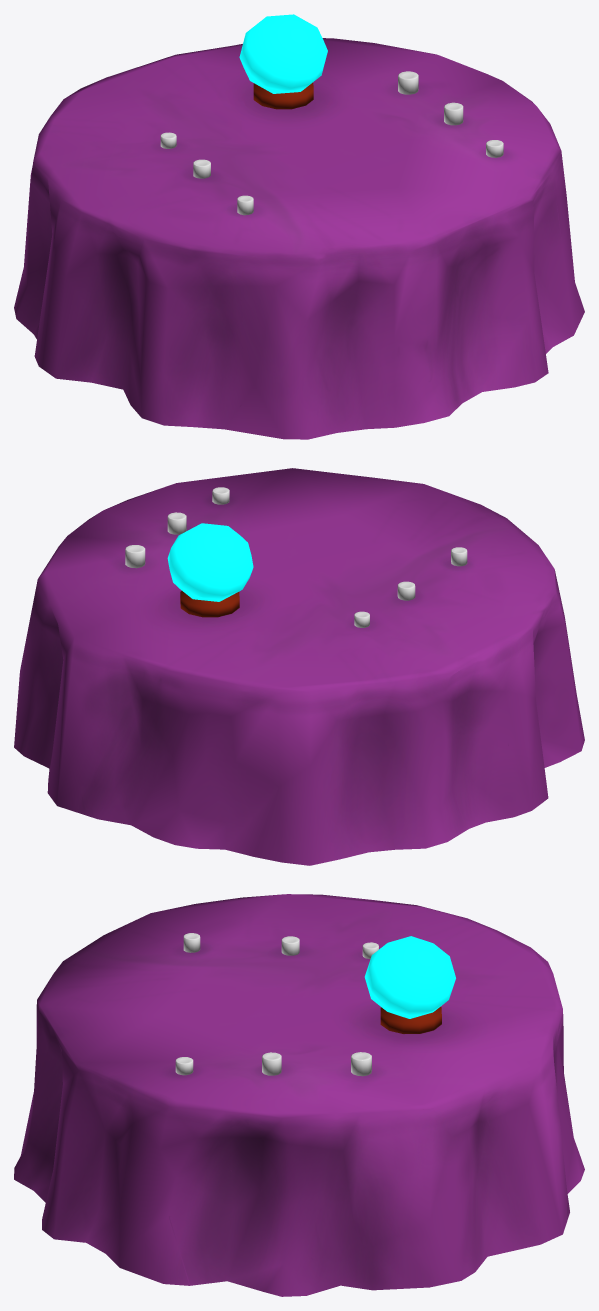
File: Ftable.glb
3 renders of one model, top to bottom at view 1: azimuth 30°, elevation 25°; view 2: azimuth 150°, elevation 25°; view 3: azimuth 270°, elevation 25°, orthographic. The views are drawn at different scales.
Parts seen in each view (by area): view 1: fortunetable; view 2: fortunetable; view 3: fortunetable.
Boxes of the visible parts, x1,y1,x2,y2 form: fortunetable: [14, 14, 584, 439]; fortunetable: [14, 468, 584, 865]; fortunetable: [14, 894, 584, 1296].
Size of what is drawn, in the model's own units: 2.06 by 1.01 by 2.03.
3 materials, 1 textured.
